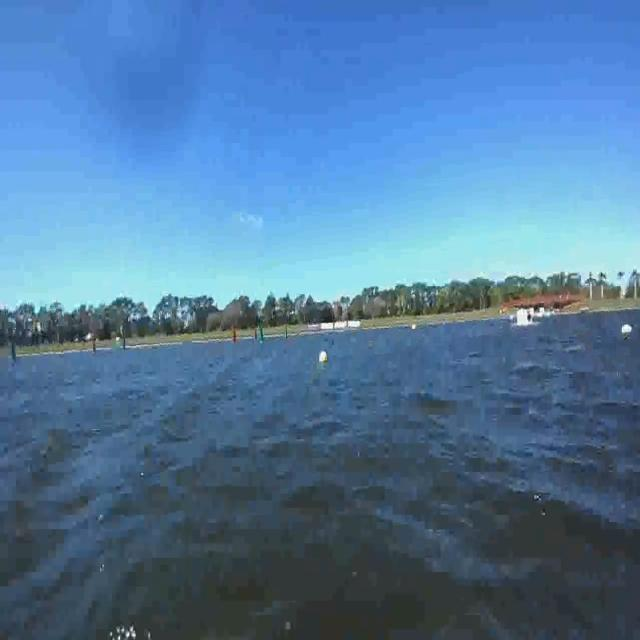green-column-buoy: (257, 320, 264, 344)
red-column-buoy: (232, 323, 240, 343)
yellow-buoy: (321, 351, 327, 363)
